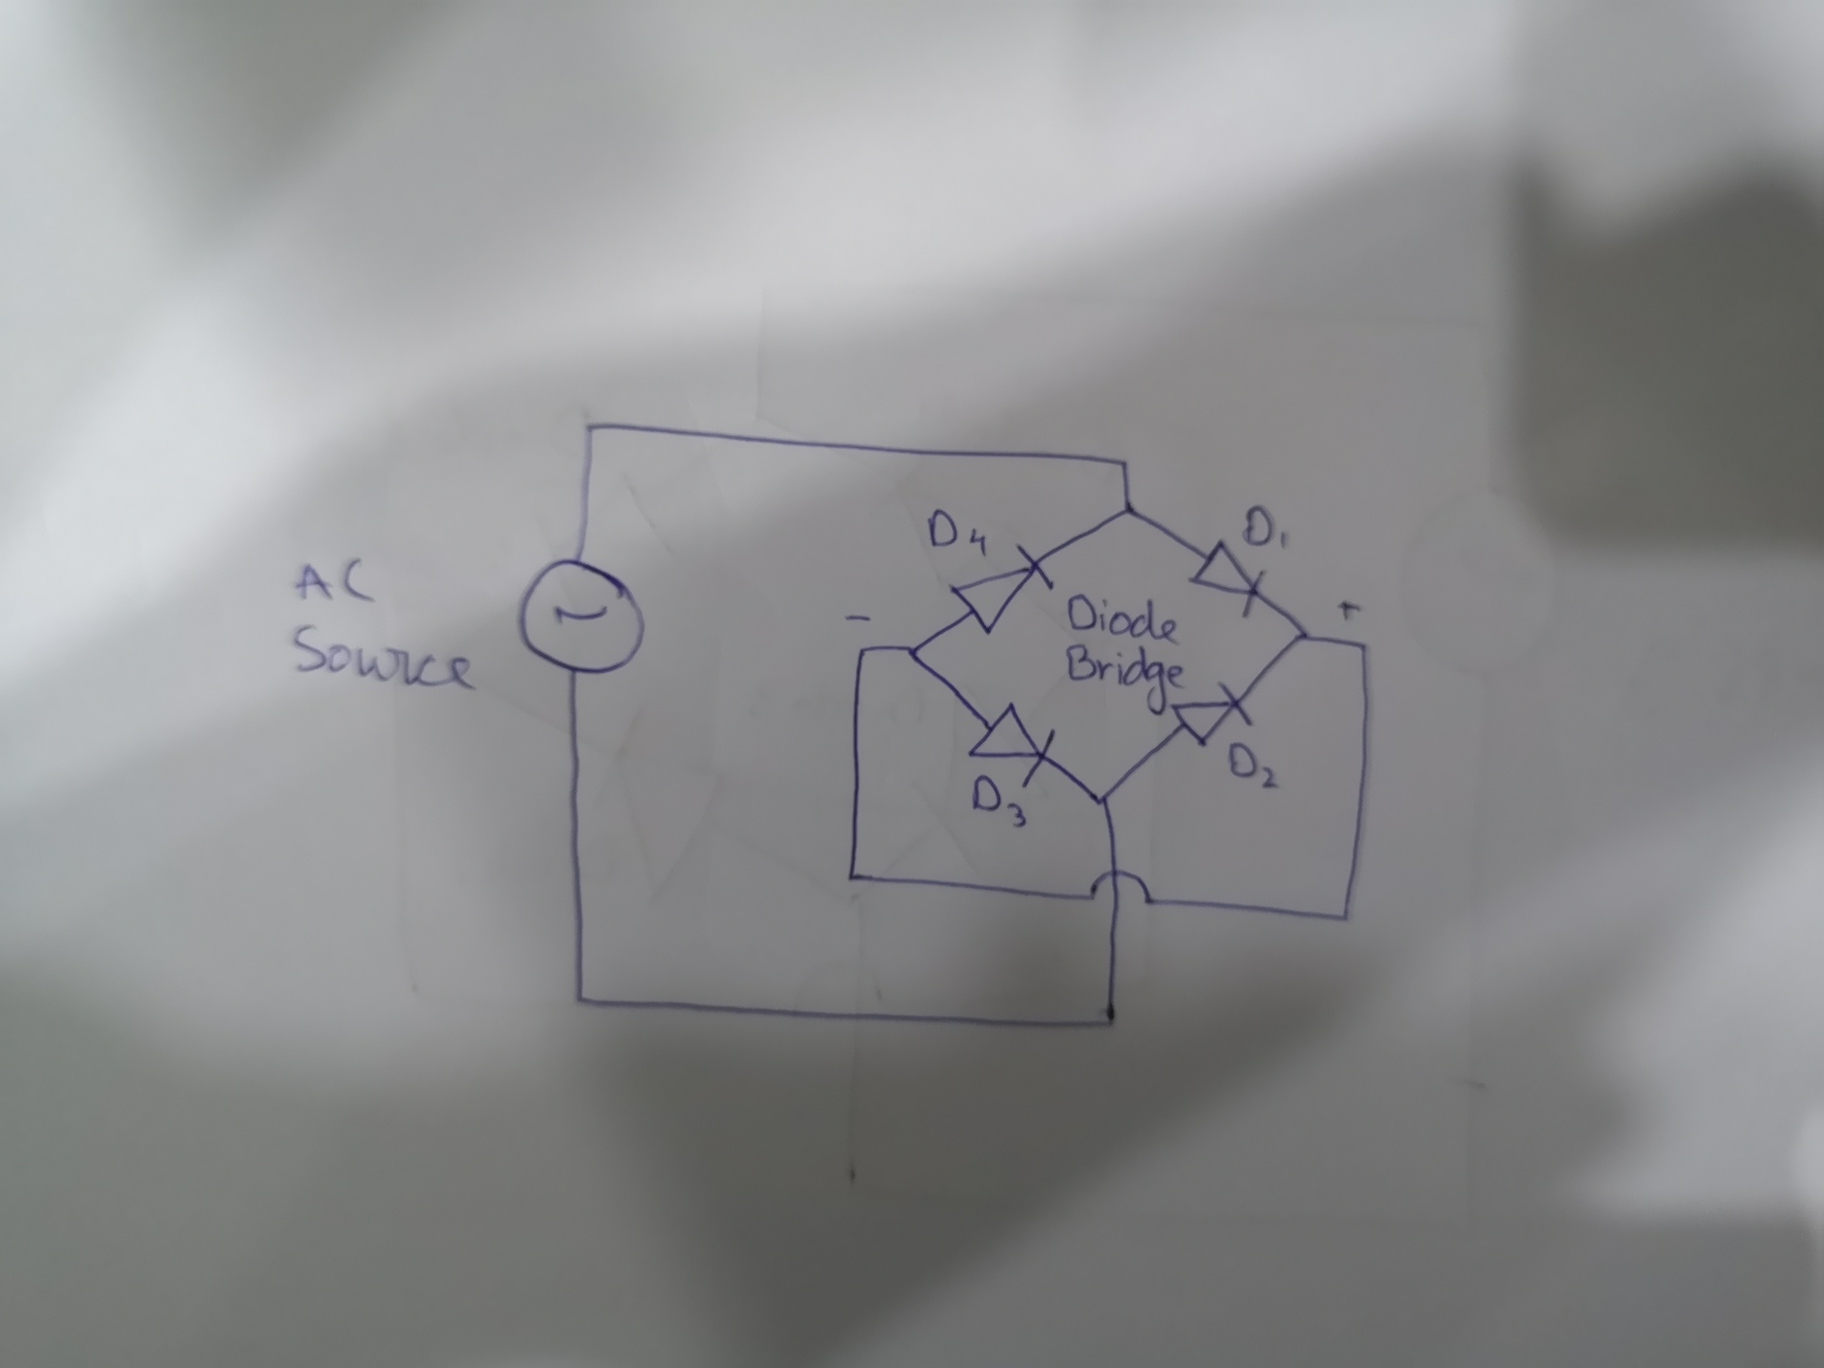crossover: (1080, 866, 1158, 910)
diode: (949, 546, 1050, 631), (972, 704, 1061, 787), (1192, 545, 1280, 624), (1163, 681, 1257, 749)
junction: (564, 981, 595, 1016), (576, 412, 605, 445), (1089, 786, 1117, 812), (1096, 1004, 1122, 1032), (1115, 496, 1140, 522), (899, 639, 925, 665), (1112, 453, 1135, 474), (842, 865, 863, 887), (1334, 905, 1354, 928), (1351, 637, 1374, 655), (852, 641, 872, 661), (1293, 628, 1311, 644)
text: (289, 619, 483, 698), (1061, 639, 1191, 717), (1067, 591, 1182, 650), (287, 555, 383, 609), (923, 507, 994, 558), (969, 764, 1025, 826), (1225, 741, 1280, 795), (1239, 502, 1290, 552)
voltage.dc_ac: (511, 550, 651, 681)
